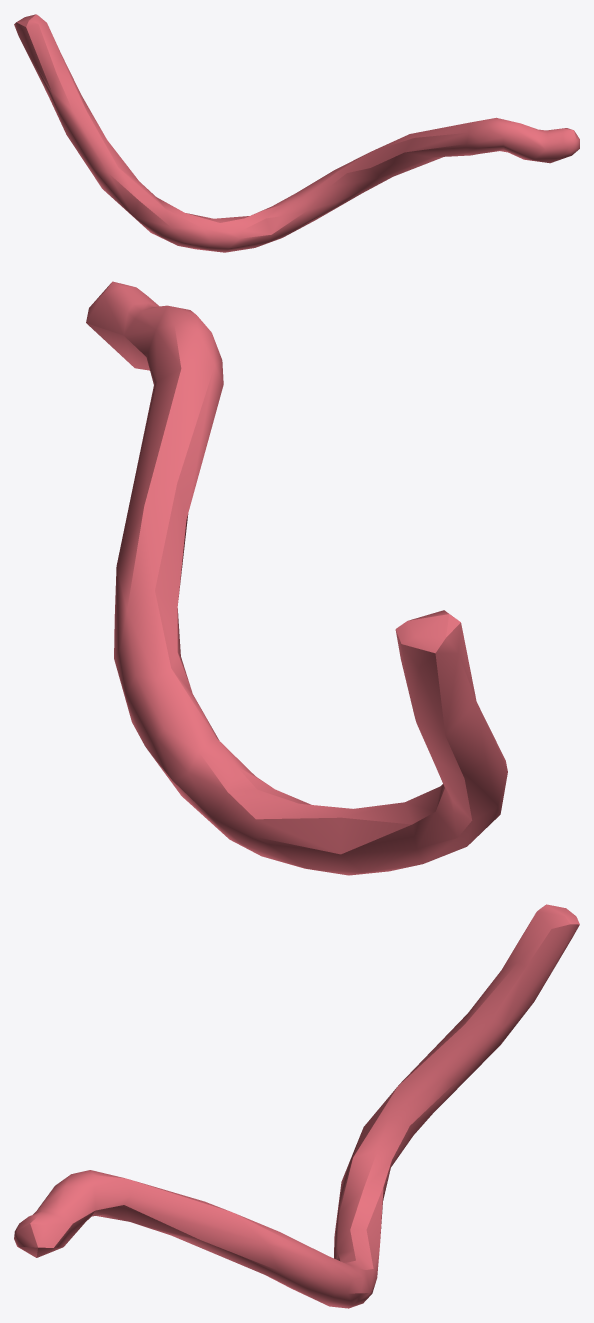
File: fma15398_fj3646.glb
The picture shows the model from 3 angles, top to bottom: view 1: azimuth 30°, elevation 25°; view 2: azimuth 150°, elevation 25°; view 3: azimuth 270°, elevation 25°; orthographic projection. The views are drawn at different scales.
Parts seen in each view (by area): view 1: FMA15398_FJ3646; view 2: FMA15398_FJ3646; view 3: FMA15398_FJ3646.
Part boxes in pixels (<box>): FMA15398_FJ3646: <box>14,14,579,252</box>; FMA15398_FJ3646: <box>86,281,507,875</box>; FMA15398_FJ3646: <box>14,904,579,1308</box>.
Bounding box in the file's own units: 0.0222 × 0.0121 × 0.0213.
